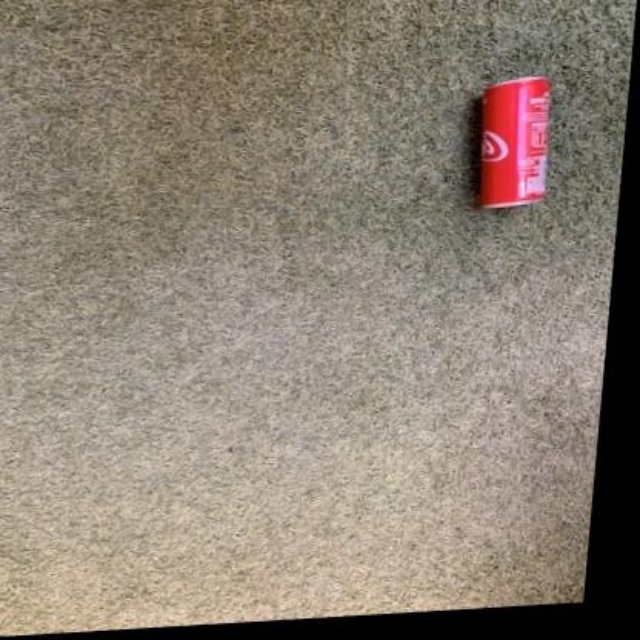trash: (480, 77, 549, 206)
